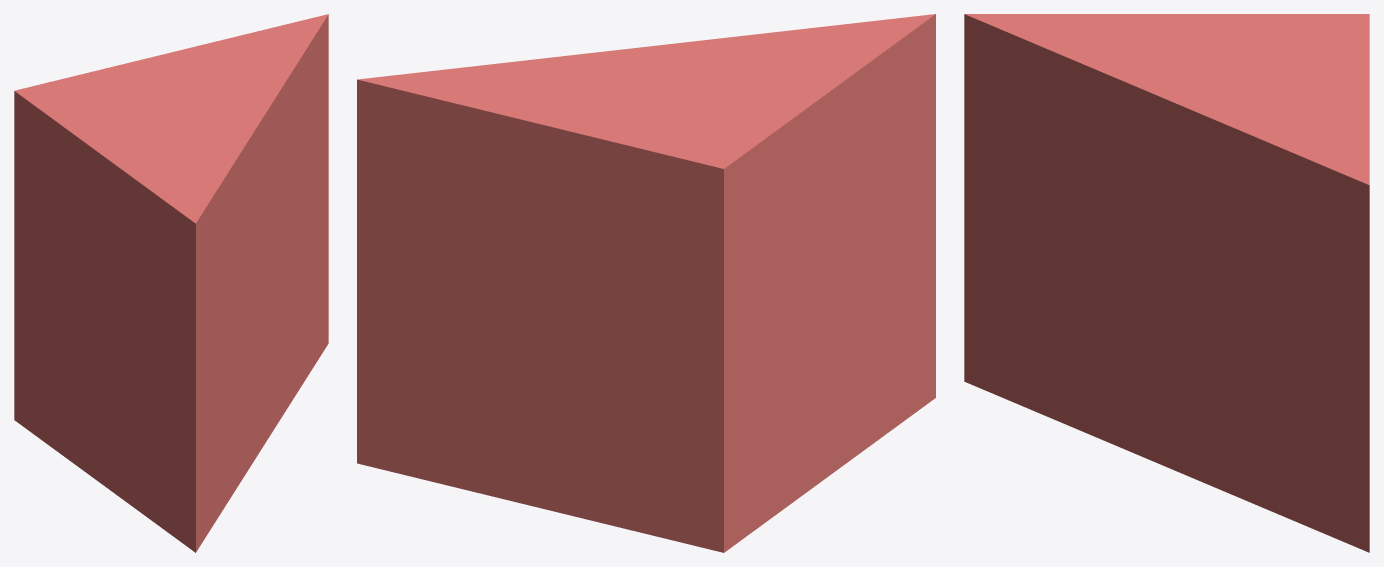
File: Hazard_VerticalSlope.glb
The picture shows the model from 3 angles, left to right: view 1: azimuth 30°, elevation 25°; view 2: azimuth 150°, elevation 25°; view 3: azimuth 270°, elevation 25°; orthographic projection. The views are drawn at different scales.
Parts seen in each view (by area): view 1: Hazard_VerticalSlope_body; view 2: Hazard_VerticalSlope_body; view 3: Hazard_VerticalSlope_body.
Boxes of the visible parts, x1,y1,x2,y2 form: Hazard_VerticalSlope_body: (14, 14, 328, 552); Hazard_VerticalSlope_body: (357, 14, 935, 552); Hazard_VerticalSlope_body: (964, 14, 1369, 552).
Size of the model in its own units: 1 by 1 by 1.
